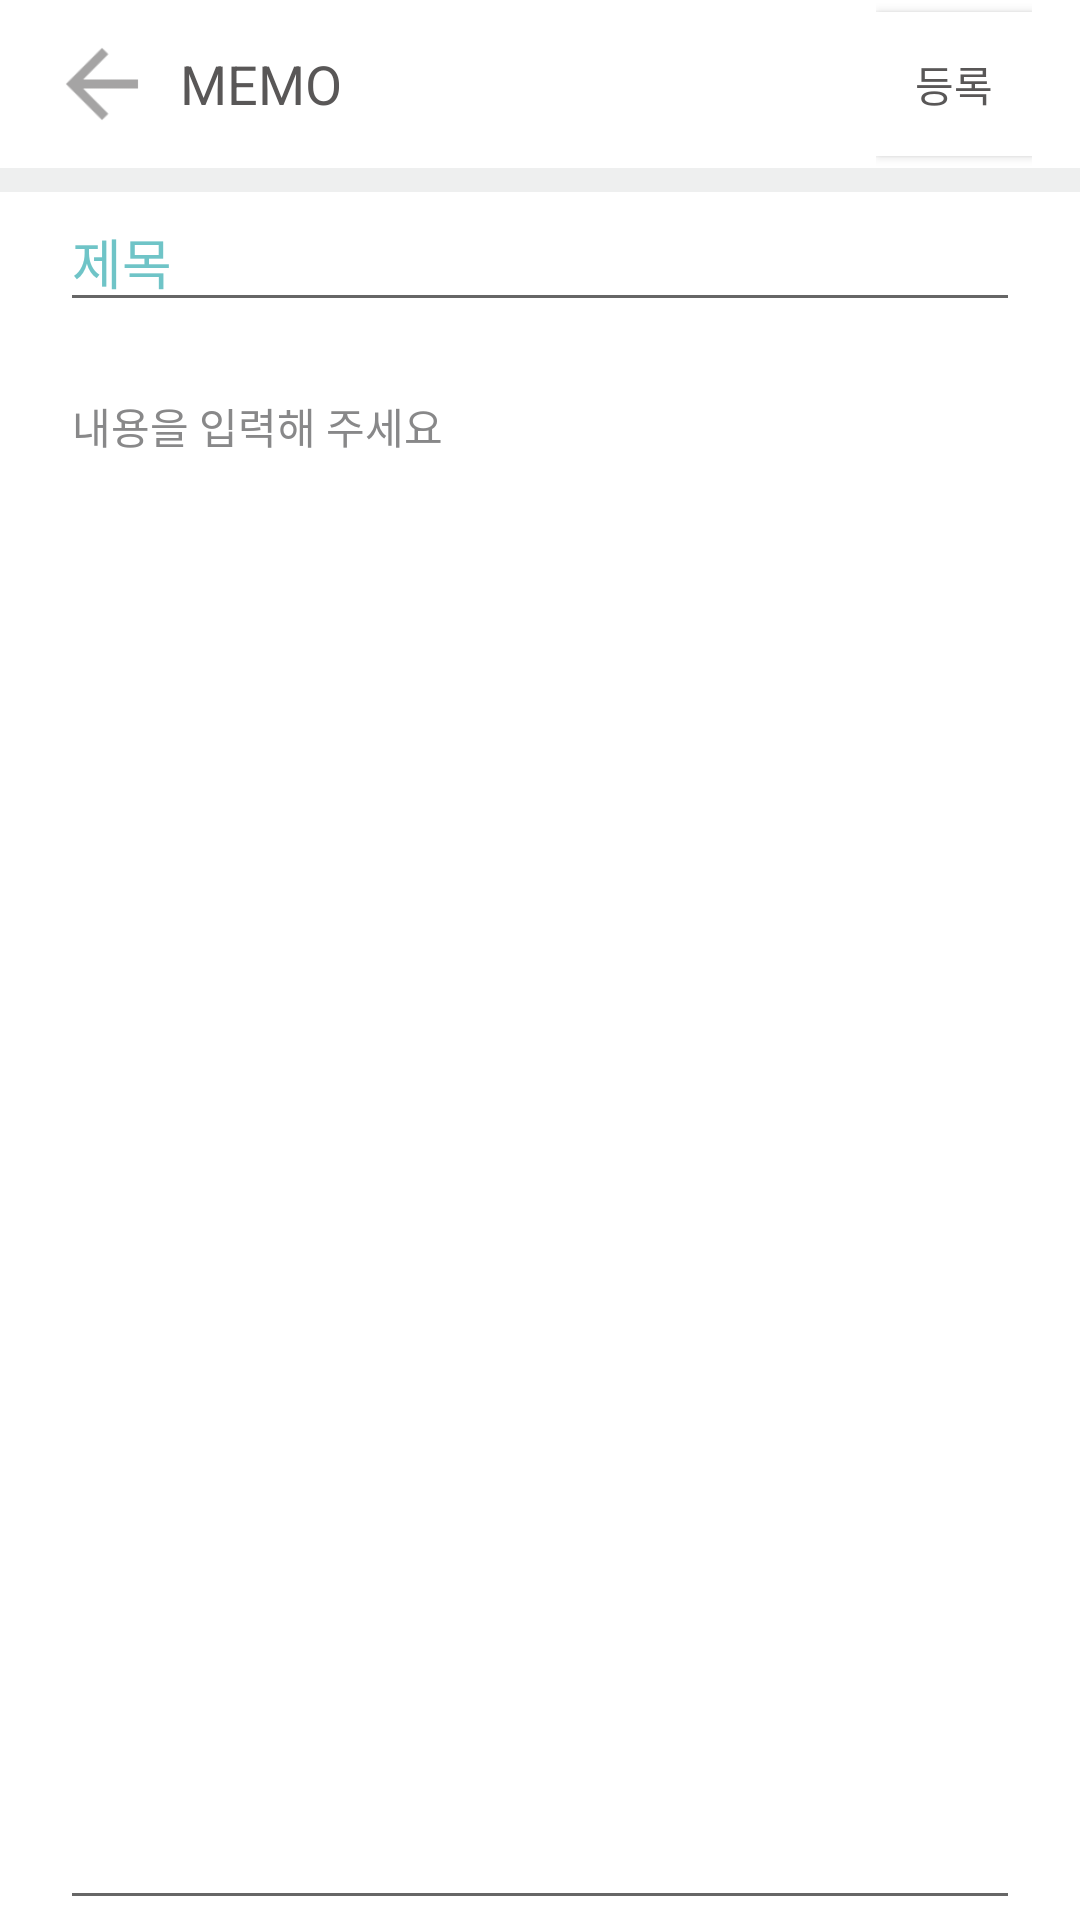

Icons on this 1080x1920 Android screen, each with the point to tap as (x,y):
arrow back: (102,84)
